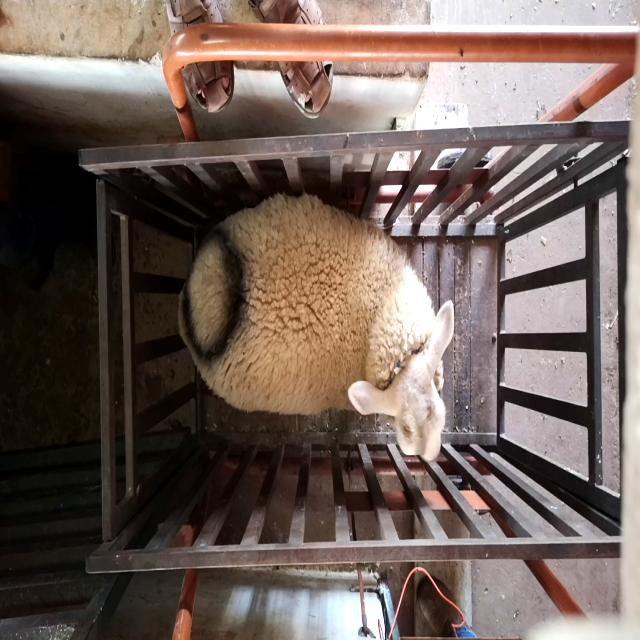sheep: (176, 190, 454, 460)
